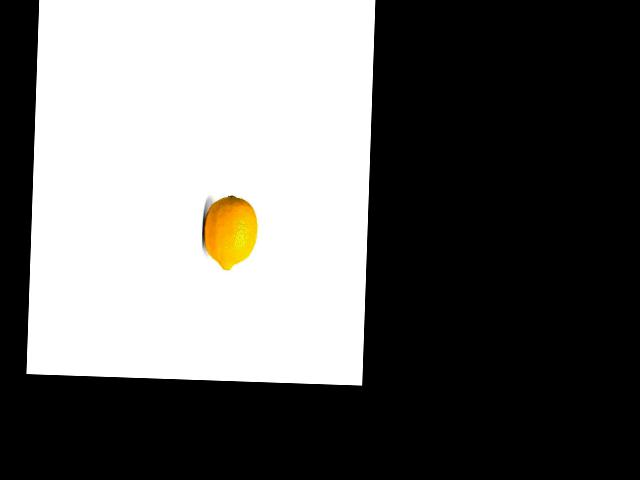lemon: (202, 191, 257, 273)
